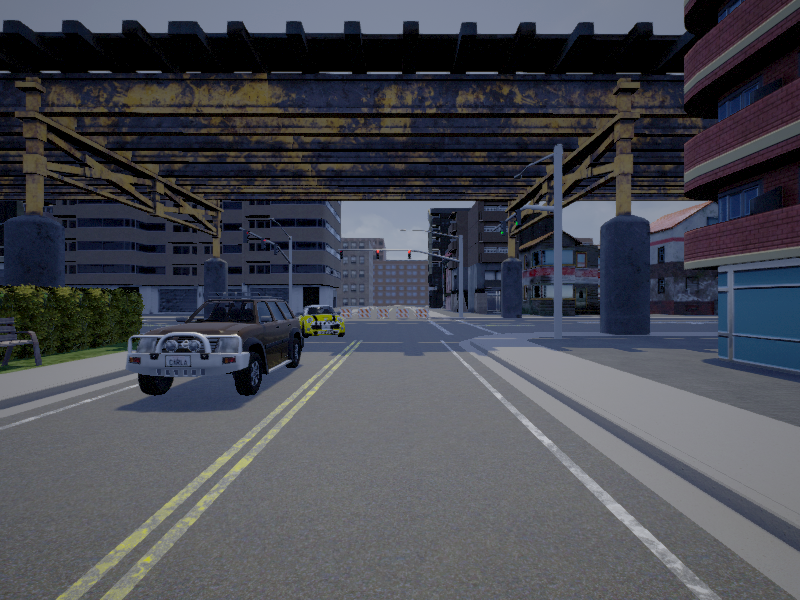Benign: (125, 292, 305, 395), (300, 304, 347, 338)
